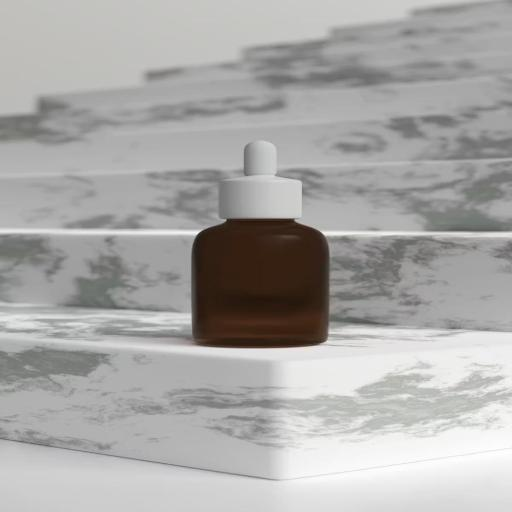bottle: (182, 136, 338, 354)
